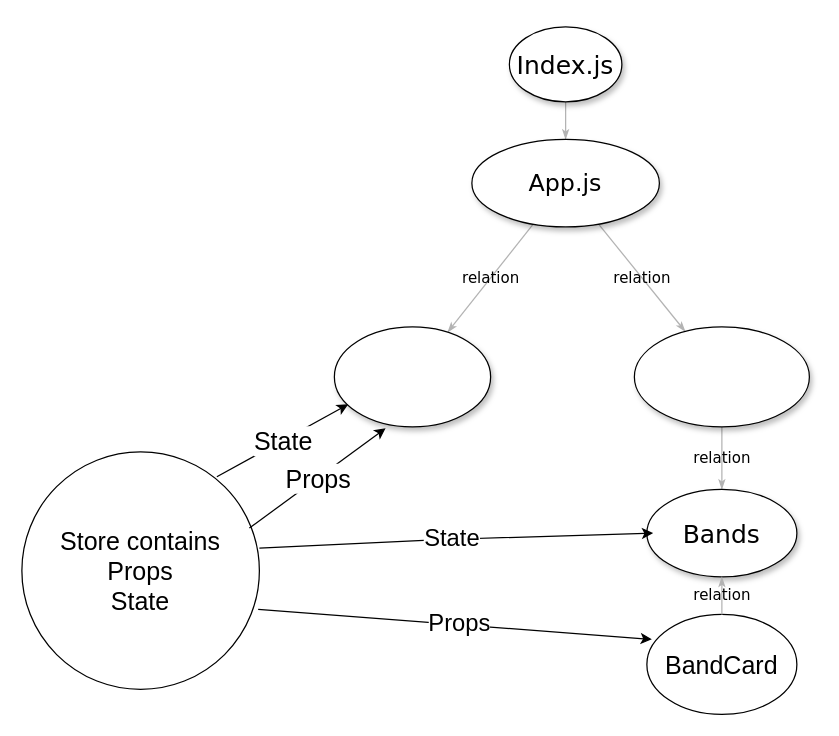
This 839x736 diagram has some shape labels left out. Here are the shapes that lost their labels. From the top down, the centre of each, then its label:
point (413, 378): Header
point (722, 378): MainContainer
